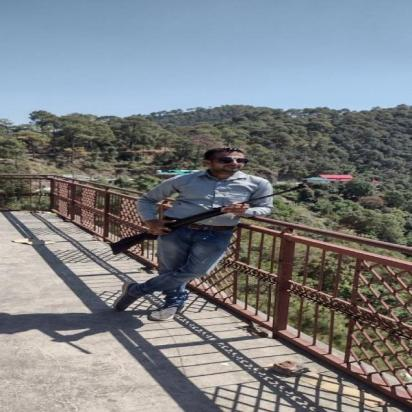Gun: (108, 182, 310, 256)
